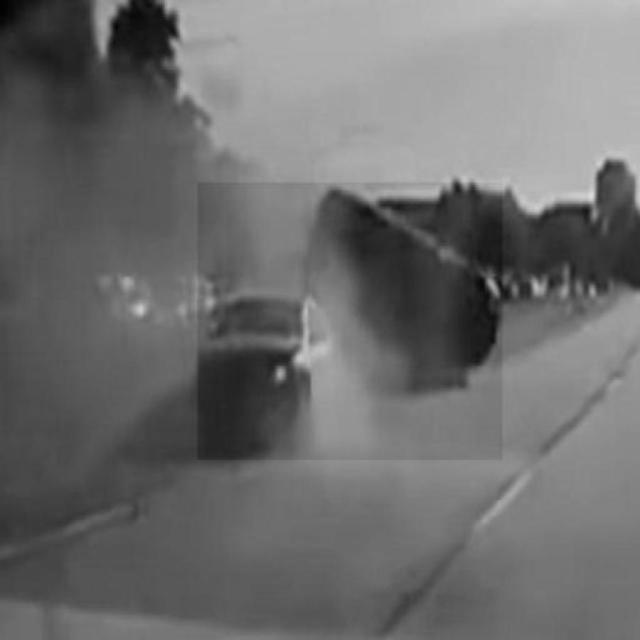accident: (198, 183, 502, 461)
